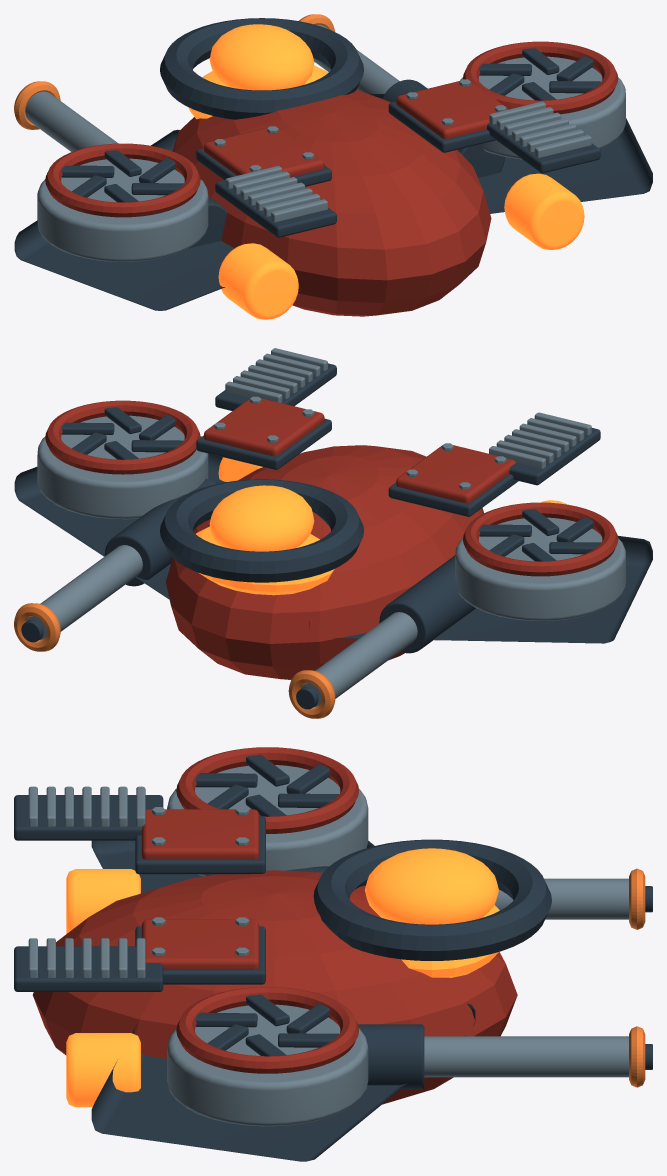
Rendered from Drone.fbx.
3 renders of one model, top to bottom at view 1: azimuth 30°, elevation 25°; view 2: azimuth 150°, elevation 25°; view 3: azimuth 270°, elevation 25°, orthographic. The views are drawn at different scales.
Visible parts, largest first — view 1: Armored lens.002, Armored sensor surround.002, Ducted impeller.004, Blade.004, Blade.005, Optical eye.002, Duct intake lip.004, Thruster.005, Thruster.004, Ducted impeller.005, Duct intake lip.005, Service panel.020 (+33 smaller); view 2: Armored lens.002, Armored sensor surround.002, Ducted impeller.004, Ducted impeller.005, Blade.004, Optical eye.002, Duct intake lip.004, Duct intake lip.005, Service panel.020, Service panel.019, Gun shroud.012, Blade.005 (+19 smaller); view 3: Armored lens.002, Armored sensor surround.002, Ducted impeller.005, Blade.005, Gun barrel.013, Optical eye.002, Ducted impeller.004, Duct intake lip.005, Service panel.019, Service panel.020, Duct intake lip.004, Radiator well.011 (+20 smaller).
Boxes of the visible parts, <box> form: Armored lens.002: <box>172,90,491,316</box>; Armored sensor surround.002: <box>160,18,363,119</box>; Ducted impeller.004: <box>37,158,208,261</box>; Blade.004: <box>14,129,234,310</box>; Blade.005: <box>370,94,652,213</box>; Optical eye.002: <box>209,24,314,90</box>; Duct intake lip.004: <box>45,143,200,217</box>; Thruster.005: <box>504,173,584,249</box>; Thruster.004: <box>218,243,298,319</box>; Ducted impeller.005: <box>460,56,625,159</box>; Duct intake lip.005: <box>463,41,618,114</box>; Service panel.020: <box>396,81,508,138</box>; Armored lens.002: <box>166,445,483,679</box>; Armored sensor surround.002: <box>160,479,363,582</box>; Ducted impeller.004: <box>455,517,625,620</box>; Ducted impeller.005: <box>37,415,208,519</box>; Blade.004: <box>309,536,652,643</box>; Optical eye.002: <box>209,485,314,551</box>; Duct intake lip.004: <box>463,502,618,576</box>; Duct intake lip.005: <box>45,400,200,474</box>; Service panel.020: <box>204,398,324,456</box>; Service panel.019: <box>396,444,515,503</box>; Gun shroud.012: <box>379,555,475,653</box>; Blade.005: <box>14,436,226,600</box>; Armored lens.002: <box>32,870,517,1104</box>; Armored sensor surround.002: <box>313,839,551,960</box>; Ducted impeller.005: <box>167,1004,368,1126</box>; Blade.005: <box>91,1003,475,1161</box>; Gun barrel.013: <box>424,1036,628,1077</box>; Optical eye.002: <box>364,848,498,924</box>; Ducted impeller.004: <box>167,765,368,876</box>; Duct intake lip.005: <box>176,987,358,1073</box>; Service panel.019: <box>141,809,259,859</box>; Service panel.020: <box>141,919,259,969</box>; Duct intake lip.004: <box>176,747,358,833</box>; Radiator well.011: <box>14,946,163,991</box>.
Bounding box in the file's own units: 218 × 71 × 171.
